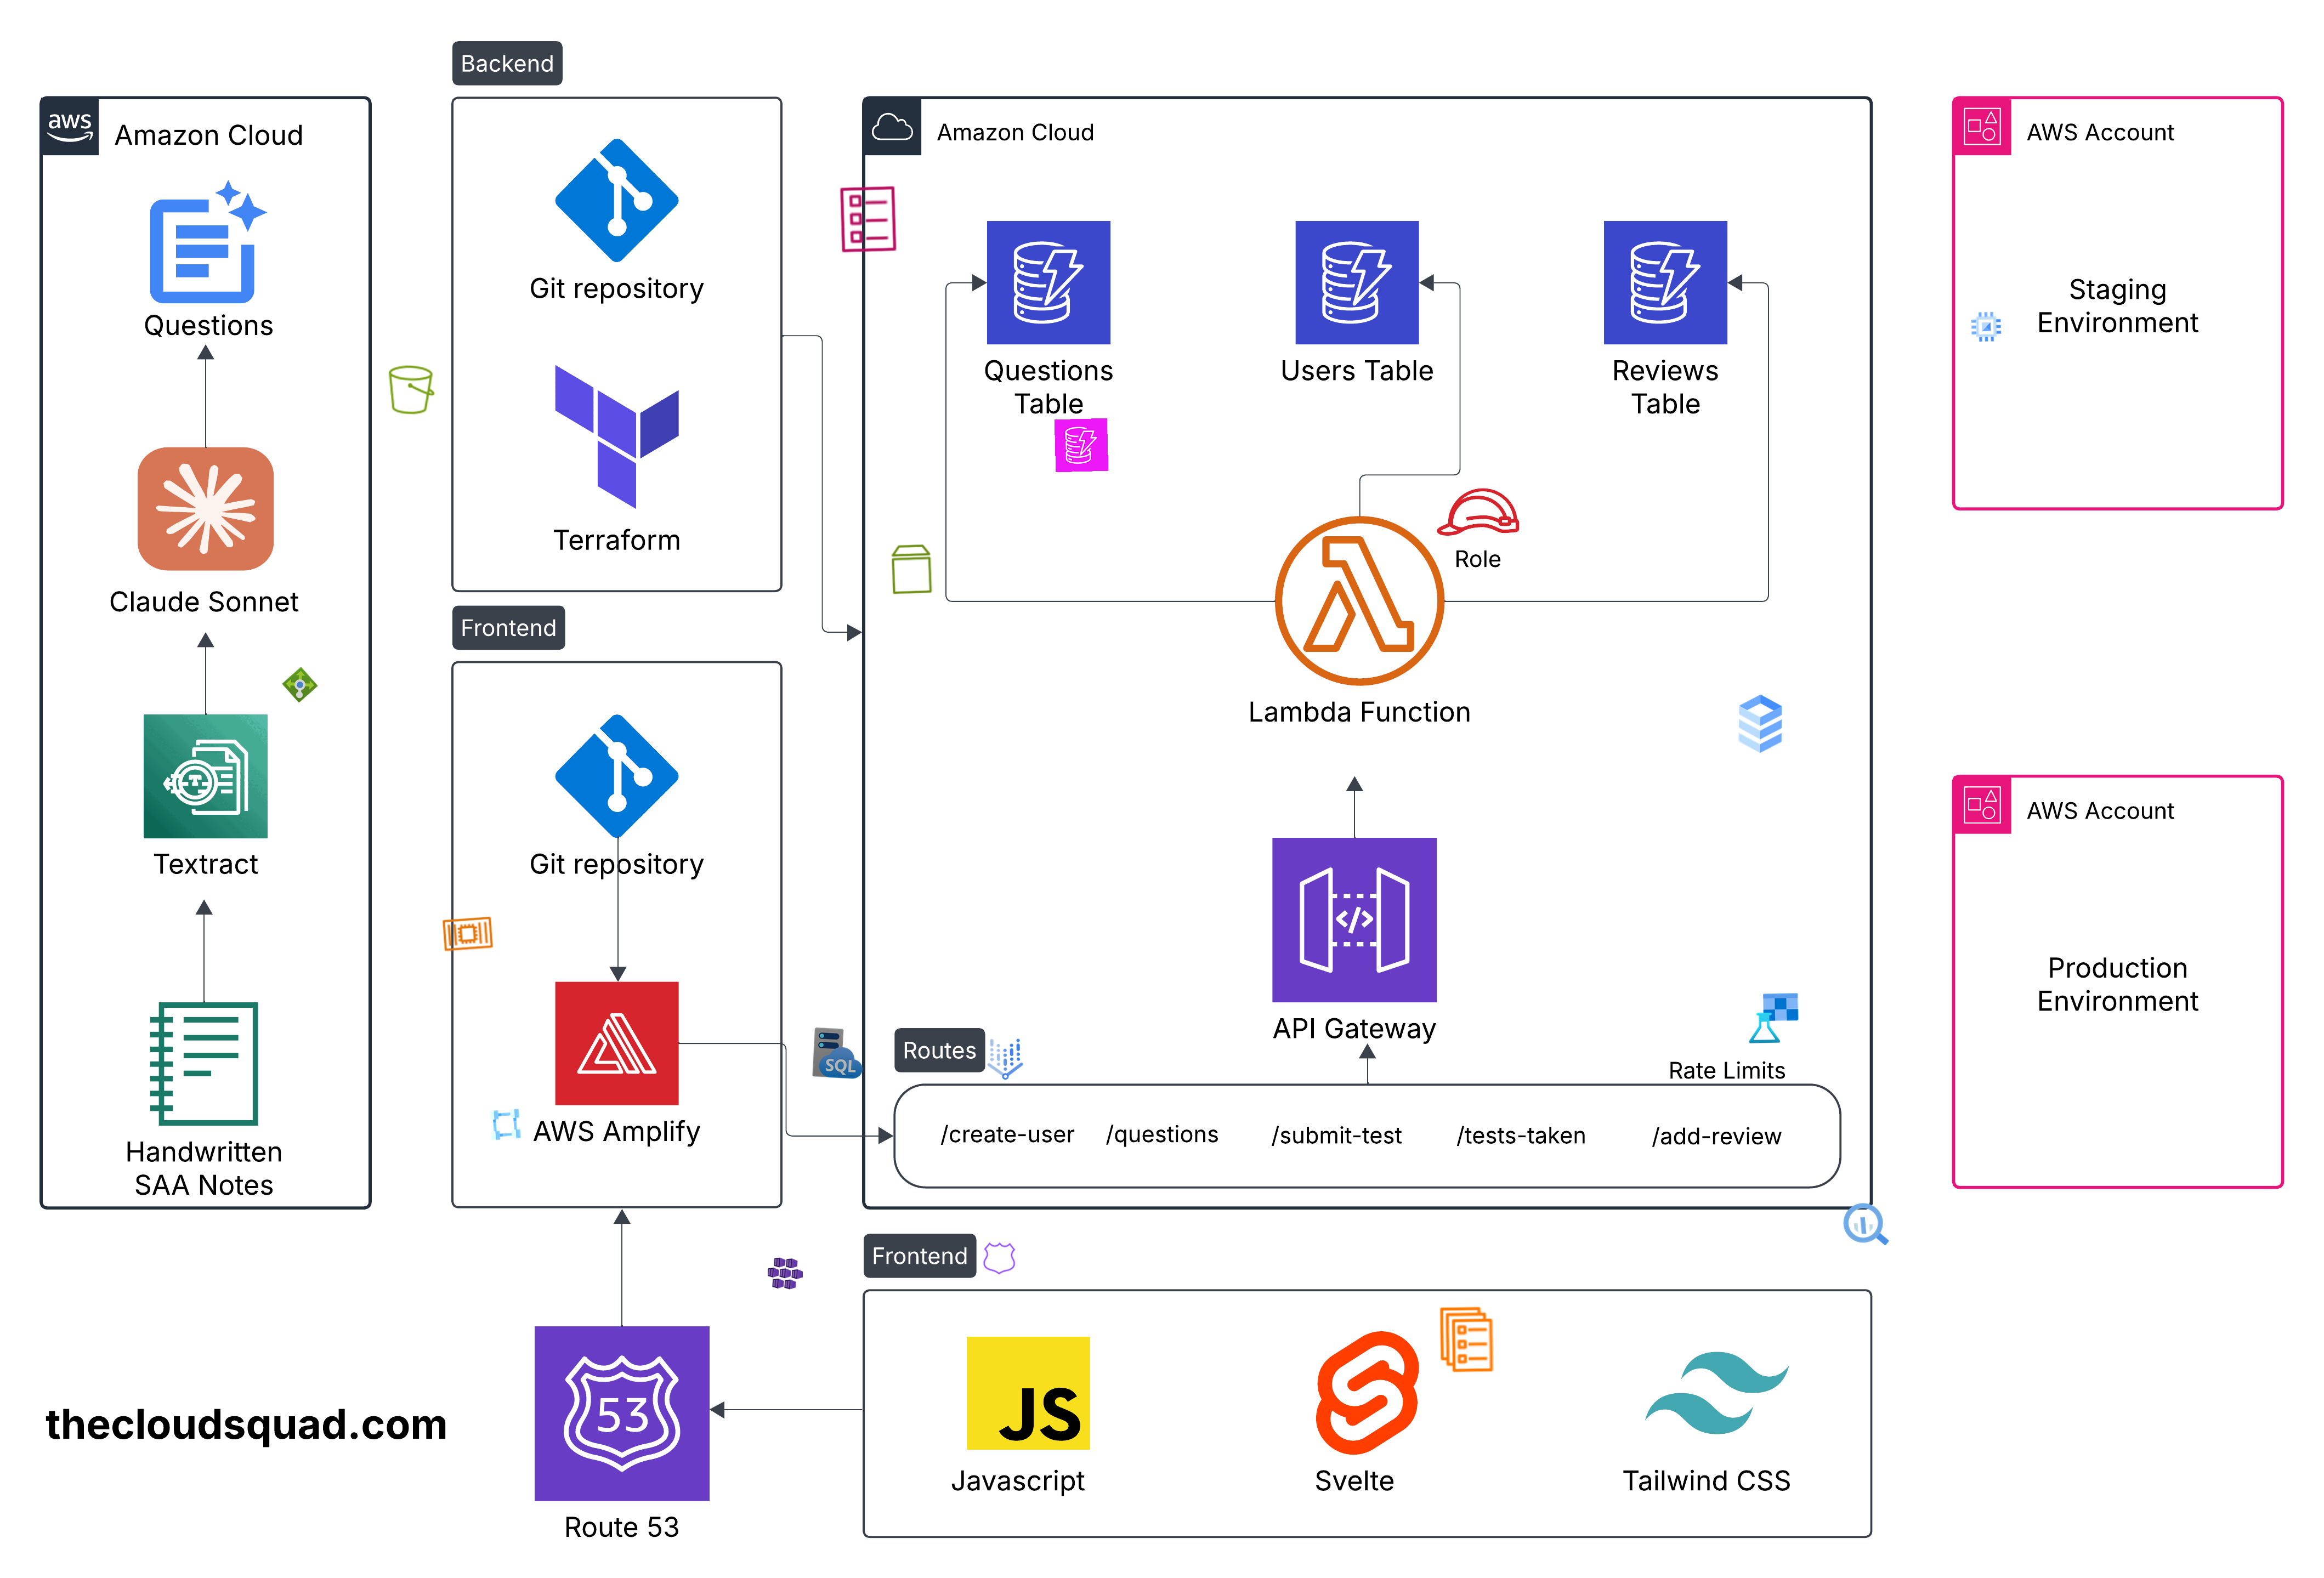aws_amazon_dynamodb: (1055, 417, 1109, 472)
aws_cloudformation_template: (831, 183, 903, 255)
aws_elastic_block_store_volume: (884, 542, 940, 597)
aws_elastic_container_service_container_2: (438, 905, 496, 962)
aws_elastic_container_service_service: (1431, 1303, 1502, 1375)
aws_route_53_hosted_zone: (982, 1240, 1018, 1277)
aws_simple_storage_service_bucket: (384, 363, 438, 417)
azure_kubernetes_services: (766, 1254, 805, 1293)
azure_load_balancers: (282, 666, 319, 703)
azure_machine_learning_studio_workspaces: (1747, 992, 1801, 1044)
azure_sql_managed_instance: (810, 1025, 866, 1081)
gcp_bigquery: (1836, 1196, 1894, 1254)
gcp_cloud_sql: (1725, 689, 1796, 759)
gcp_compute_engine: (1968, 308, 2004, 345)
gcp_vertex_ai: (979, 1032, 1032, 1087)
gcp_virtual_private_cloud: (486, 1106, 525, 1143)
